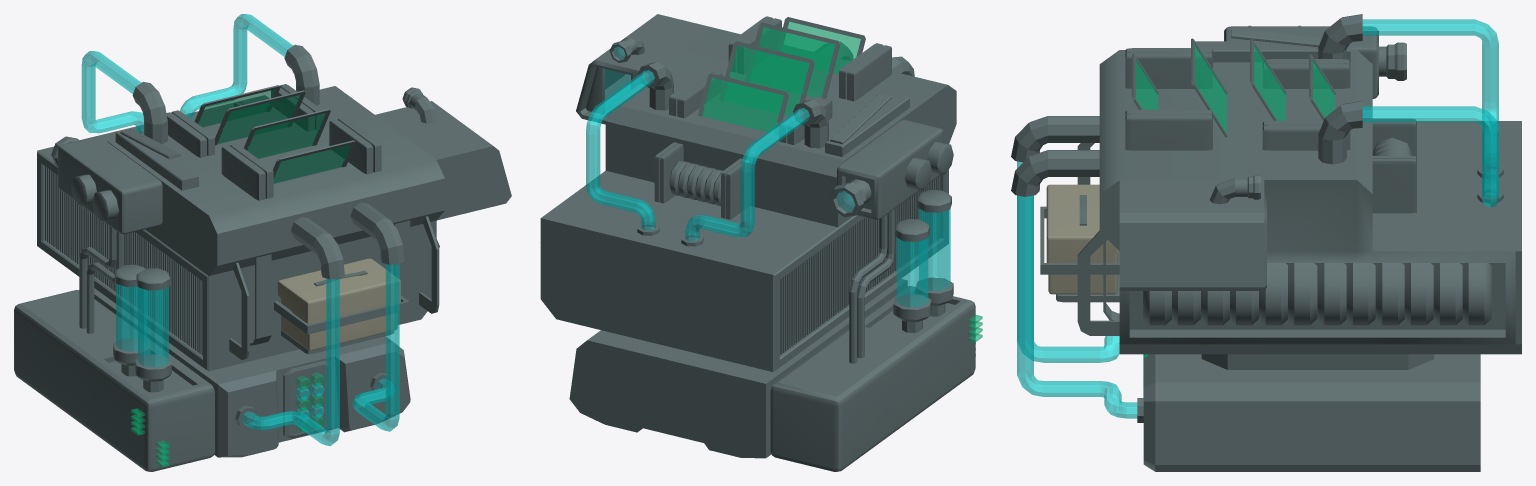
Rendered from Mini_gun_Body.fbx.
3 renders of one model, left to right at view 1: azimuth 30°, elevation 25°; view 2: azimuth 150°, elevation 25°; view 3: azimuth 270°, elevation 25°, orthographic. The views are drawn at different scales.
Parts seen in each view (by area): view 1: polySurface755; view 2: polySurface755; view 3: polySurface755.
Boxes of the visible parts, x1,y1,x2,y2 form: polySurface755: (14, 14, 511, 471); polySurface755: (540, 14, 982, 471); polySurface755: (1011, 14, 1521, 471).
Bounding box in the file's own units: 58.16 × 48.73 × 61.39.
